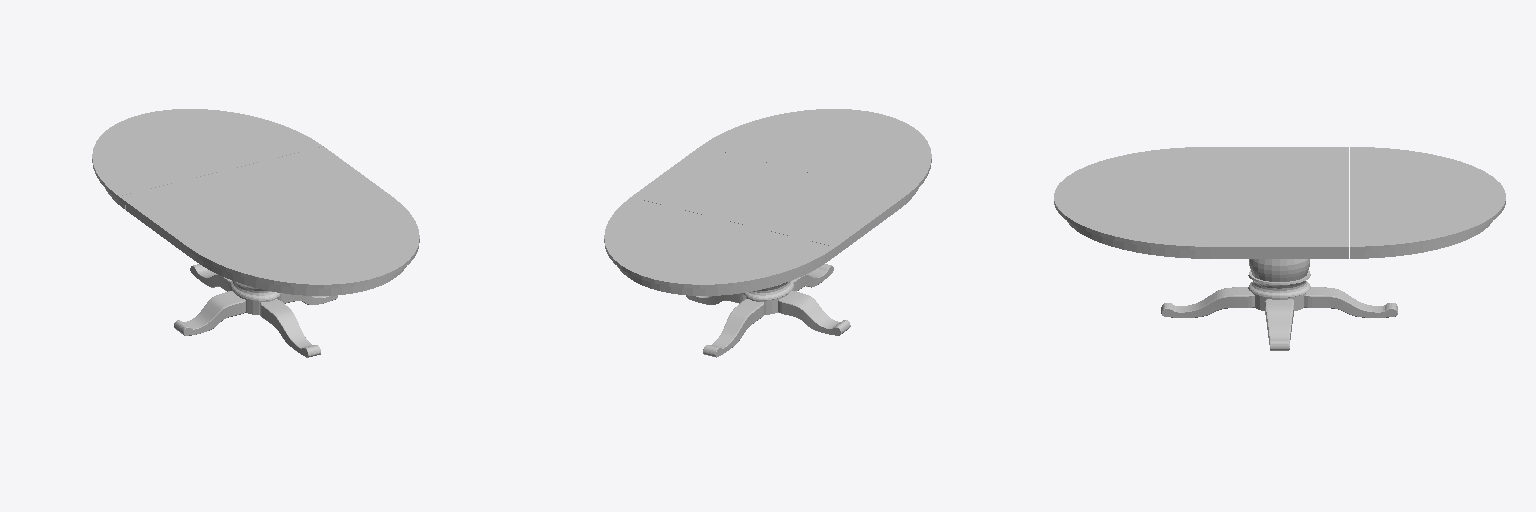
Rendered from table.obj.
3 views of the same model, side by side, from view 1: azimuth 30°, elevation 25°; view 2: azimuth 150°, elevation 25°; view 3: azimuth 270°, elevation 25° (orthographic).
Visible parts, largest first — view 1: table; view 2: table; view 3: table.
Boxes of the visible parts, x1=… form: table: x1=92, y1=109, x2=419, y2=357; table: x1=604, y1=109, x2=931, y2=357; table: x1=1054, y1=147, x2=1505, y2=350.
Bounding box in the file's own units: 8.54 × 4.71 × 16.32.